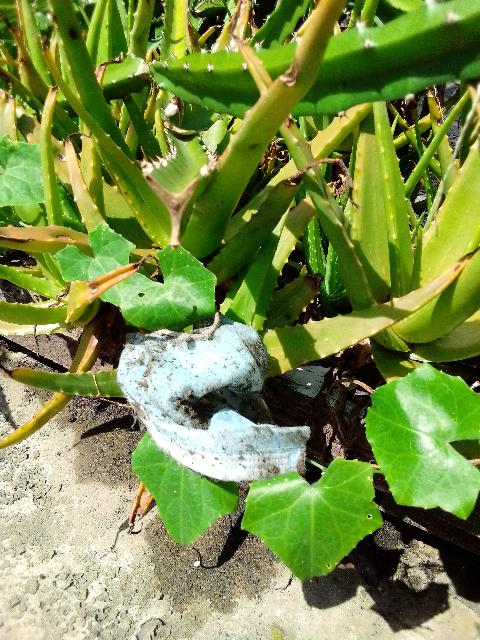mask: (117, 325, 304, 480)
